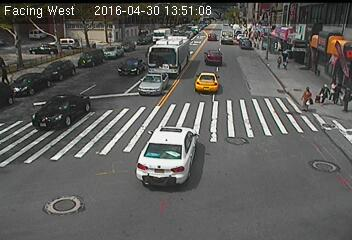neg: (310, 131, 328, 154), (240, 122, 256, 143), (195, 80, 207, 95), (177, 39, 188, 54), (89, 39, 99, 53), (306, 62, 316, 76), (199, 51, 209, 65), (162, 144, 172, 158), (58, 95, 67, 108), (205, 30, 214, 42), (286, 36, 293, 45), (269, 42, 275, 51)
pos: (296, 81, 318, 111), (336, 85, 351, 112), (315, 81, 331, 102), (325, 78, 341, 98), (332, 80, 347, 101), (274, 54, 284, 68), (281, 58, 290, 70)
